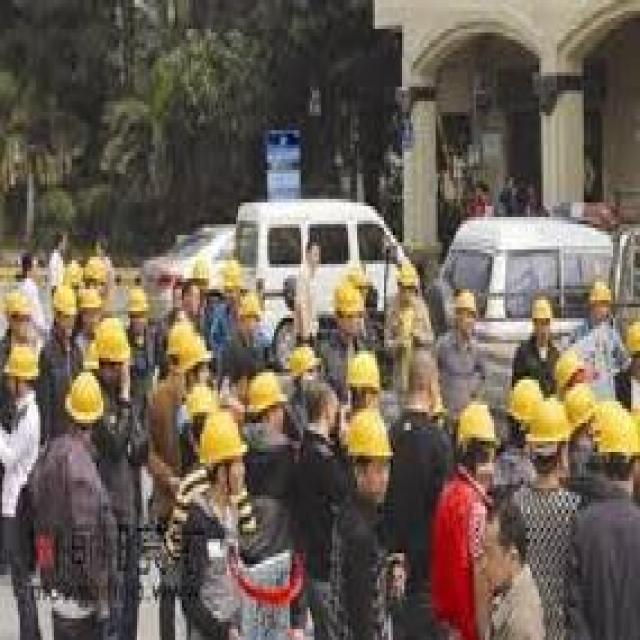Reflective-Jacket: (34, 441, 112, 600)
Safety-Helmet: (160, 314, 213, 380), (343, 405, 398, 466), (196, 409, 250, 470), (451, 394, 501, 459), (58, 365, 108, 430), (240, 365, 292, 423), (503, 372, 548, 434), (88, 314, 134, 372), (328, 264, 370, 325), (0, 340, 45, 390), (344, 347, 384, 398), (552, 340, 590, 390), (178, 246, 214, 293), (2, 282, 38, 329), (584, 271, 620, 318), (523, 286, 557, 332), (288, 340, 324, 380), (50, 278, 78, 326), (449, 282, 481, 322), (218, 253, 247, 293), (124, 278, 152, 318), (393, 253, 420, 293), (238, 286, 265, 322), (74, 286, 106, 314)
